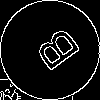B: (25, 25, 82, 79)
